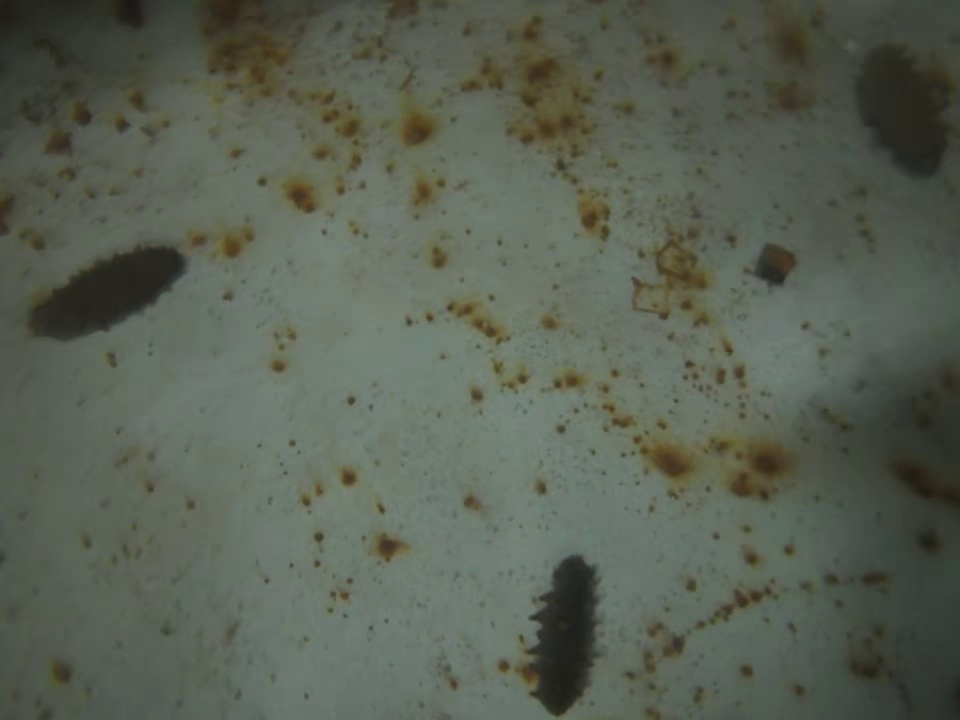seacucumber: (27, 241, 189, 345), (856, 44, 957, 182), (529, 551, 601, 720)
